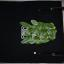leaf: (36, 37, 46, 44), (30, 36, 38, 44), (20, 22, 32, 27), (31, 20, 39, 27), (21, 38, 30, 44), (44, 23, 54, 28), (47, 30, 54, 37), (25, 28, 33, 34), (38, 22, 46, 28), (30, 28, 40, 32), (43, 38, 51, 43), (52, 30, 57, 36), (42, 31, 48, 36), (41, 28, 47, 33), (34, 24, 40, 28), (50, 22, 54, 28), (52, 28, 56, 31), (34, 36, 40, 38), (27, 36, 32, 38), (28, 27, 32, 29), (49, 38, 52, 40), (52, 38, 54, 41)
